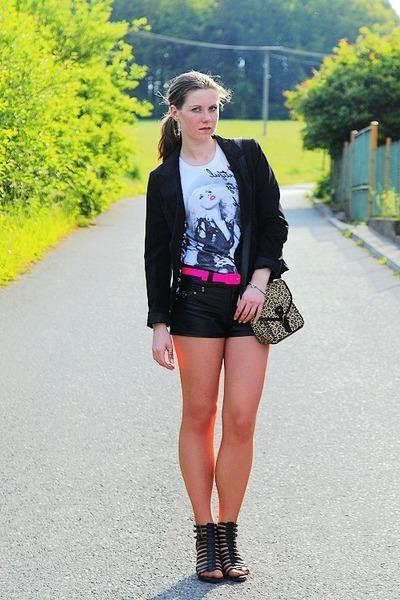Shorts: (161, 265, 278, 342)
jacket: (126, 133, 288, 328)
short sleeve shirt: (171, 138, 248, 276)
